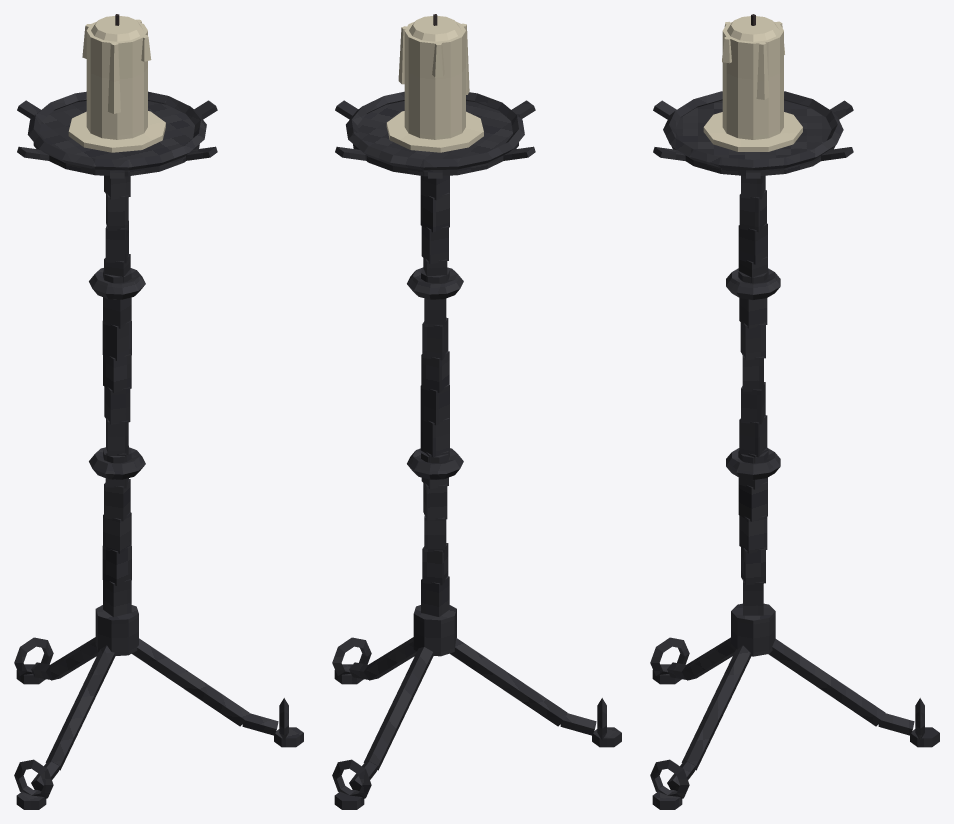
The model's file is candle_stand_off.obj.
3 views of the same model, side by side, from view 1: azimuth 30°, elevation 25°; view 2: azimuth 150°, elevation 25°; view 3: azimuth 270°, elevation 25° (orthographic).
Visible parts, largest first — view 1: candle_stand; view 2: candle_stand; view 3: candle_stand.
Boxes of the visible parts, x1,y1,x2,y2 form: candle_stand: (14,14,303,809); candle_stand: (332,14,621,809); candle_stand: (650,14,939,809).
Bounding box in the file's own units: 0.6506 × 1.62 × 0.5834.
